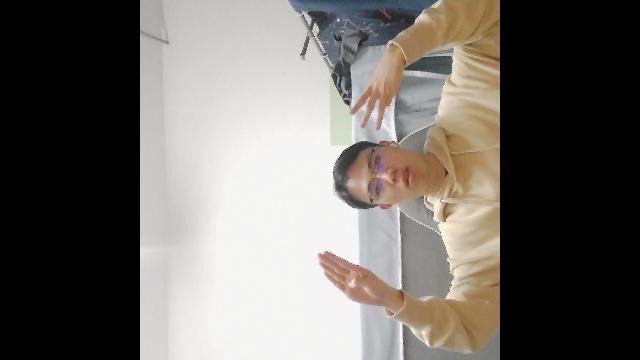four: (316, 247, 390, 306)
three: (348, 45, 401, 134)
